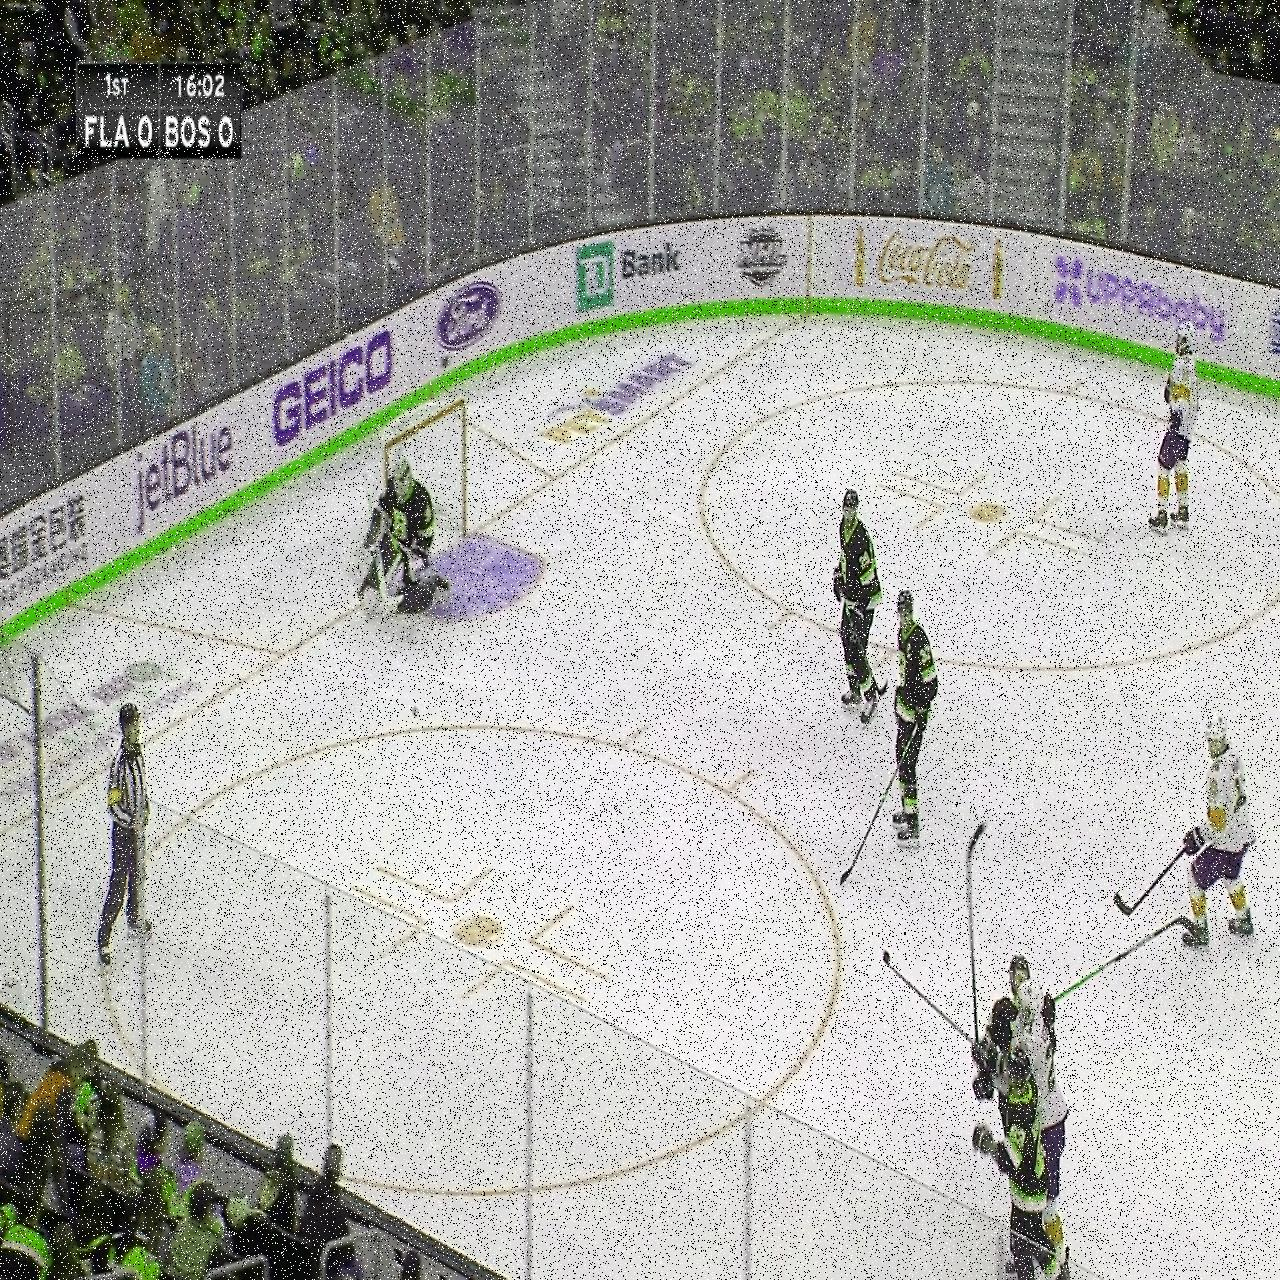Ad: (1, 648, 203, 805), (1047, 229, 1233, 366), (539, 320, 700, 476), (270, 306, 397, 486), (0, 459, 104, 661), (138, 393, 231, 561), (835, 223, 1028, 297), (568, 211, 690, 327), (434, 252, 517, 380), (724, 220, 795, 287)
